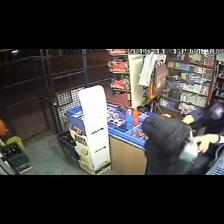person: (142, 115, 191, 174), (182, 102, 223, 153)
